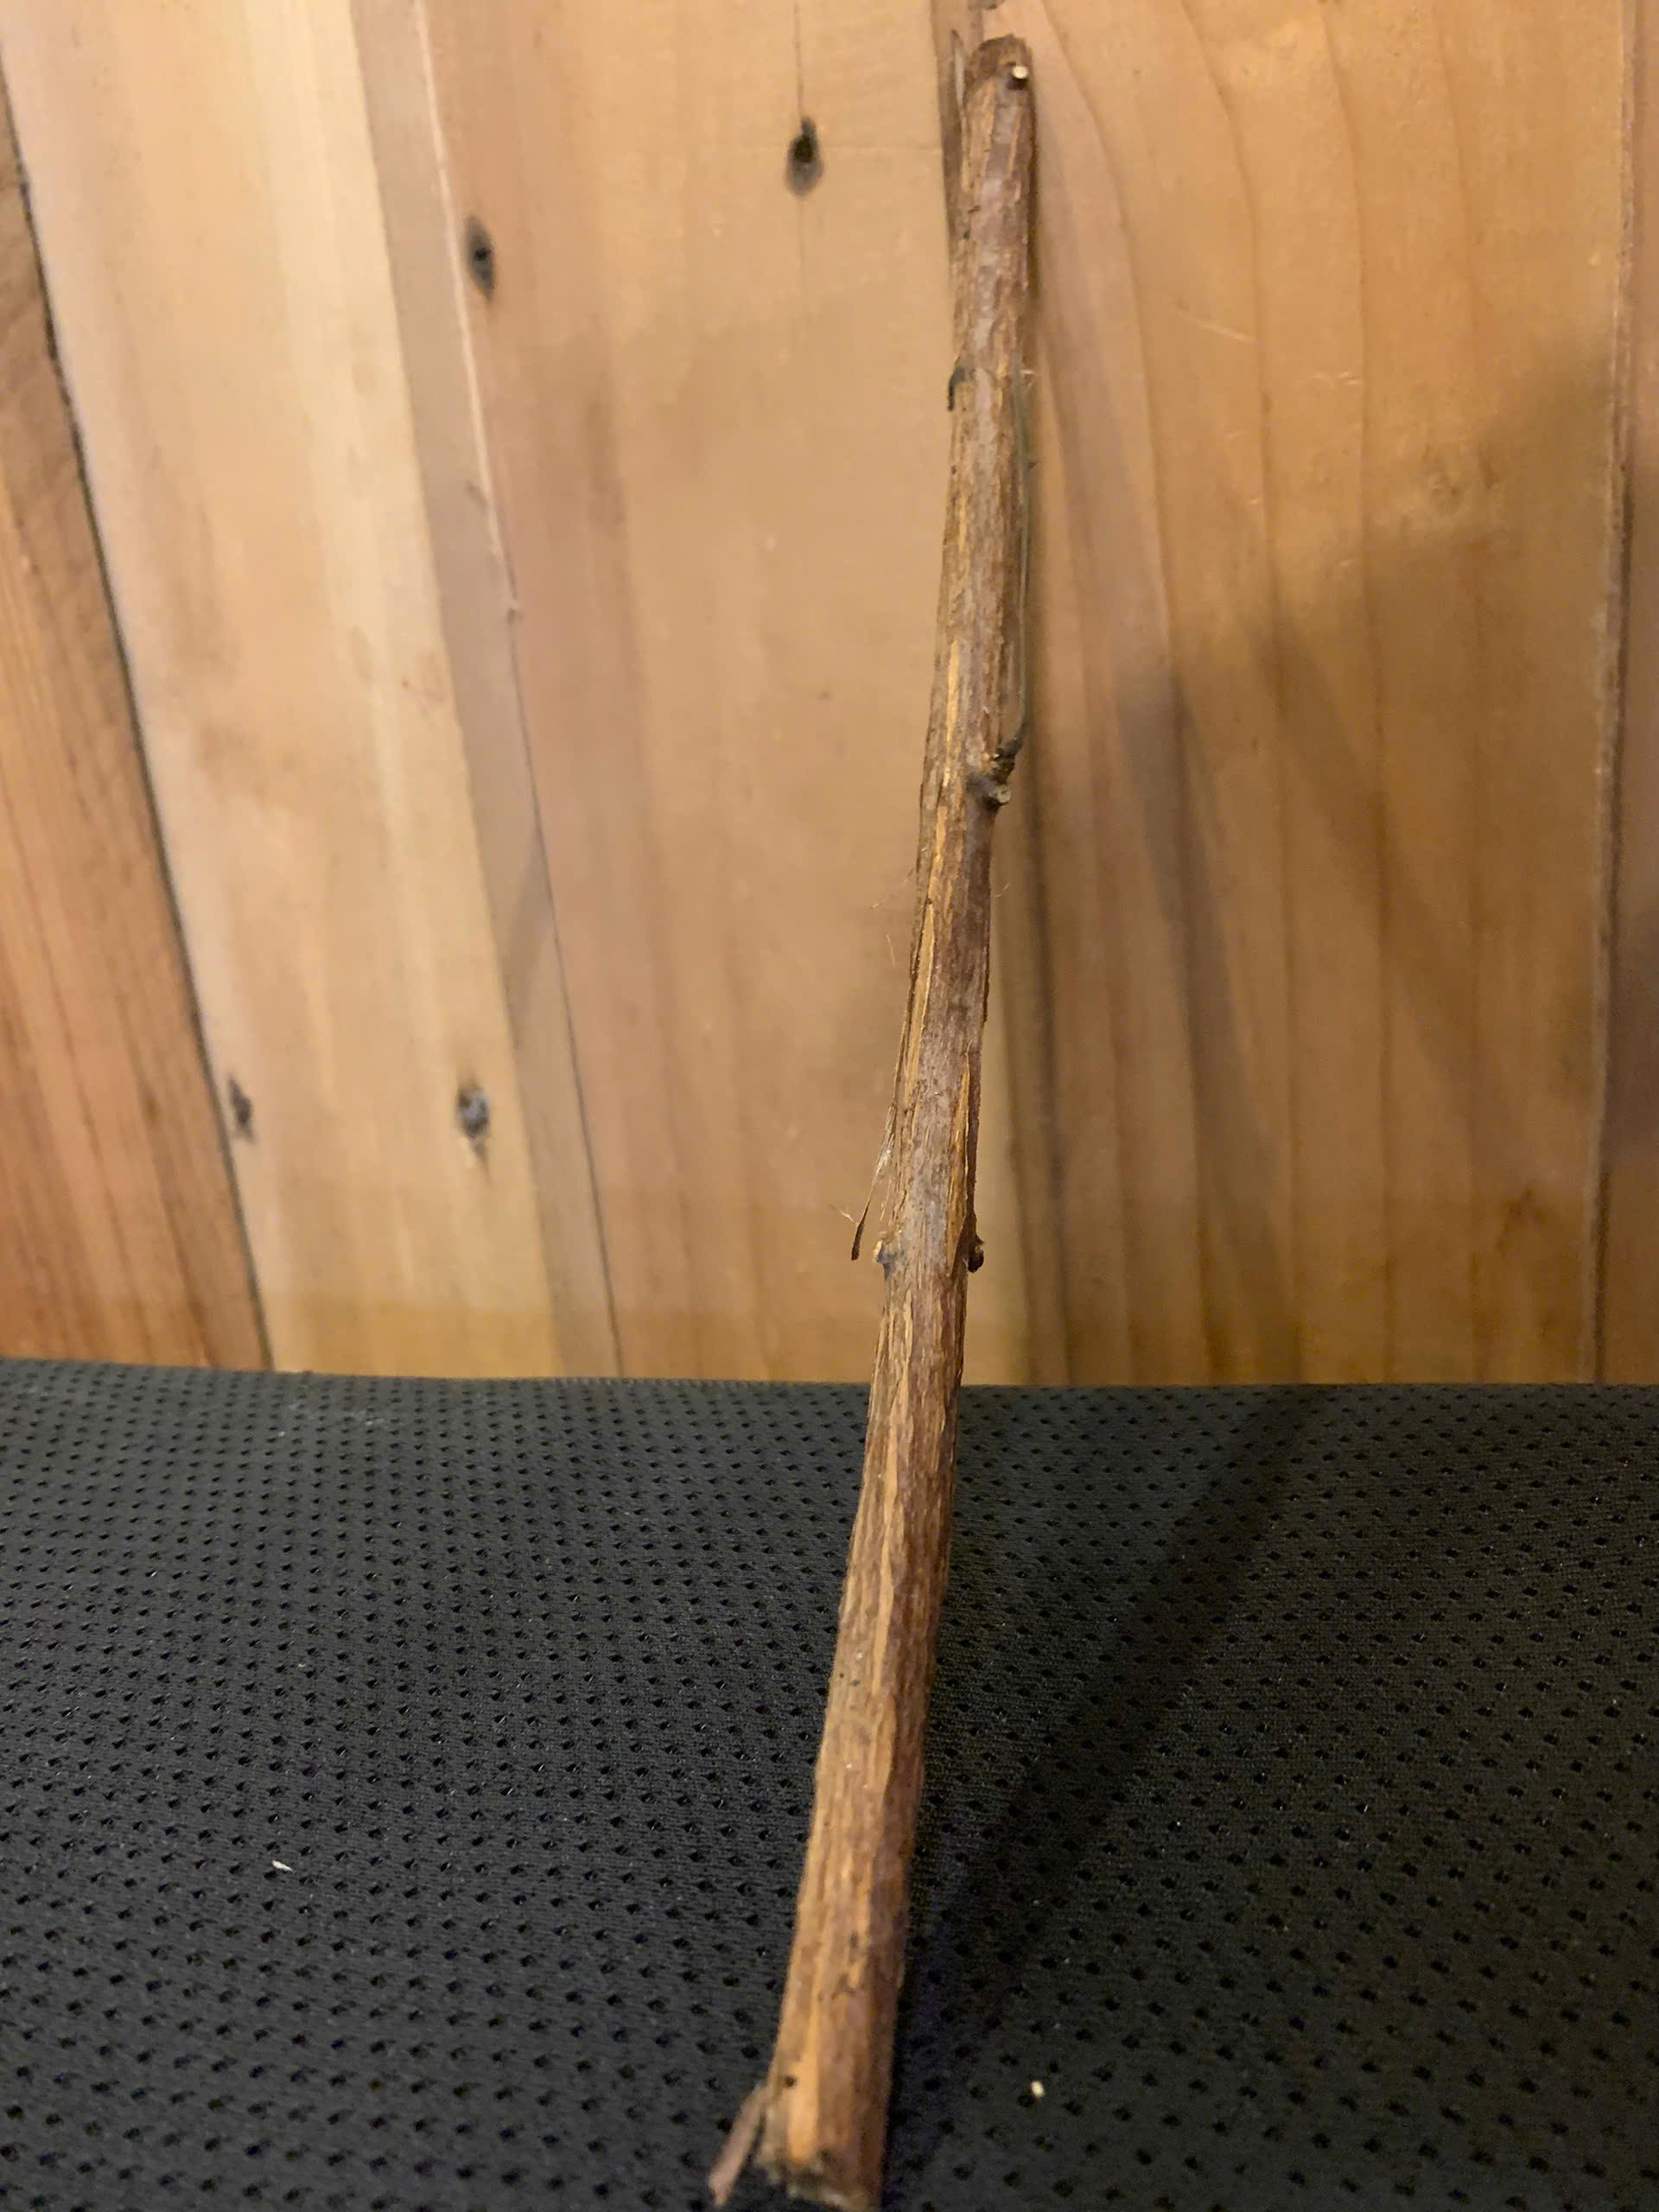Huu co: (765, 26, 1047, 2212)
